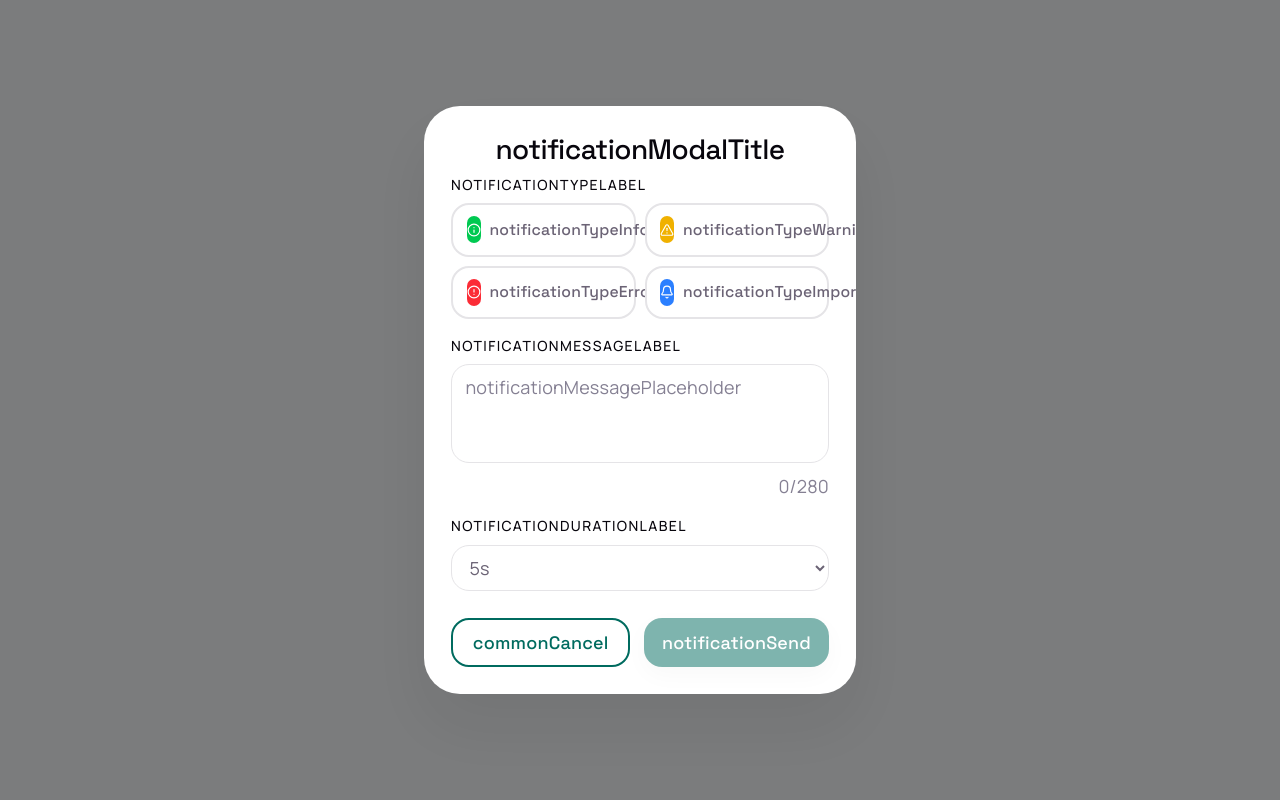
it: KioskNotificationModal › updates char counter as user types in textarea
This screenshot has width=1280, height=800.
Type "Hello kiosk!" into the text box at (640, 414), box [451,364,829,463]
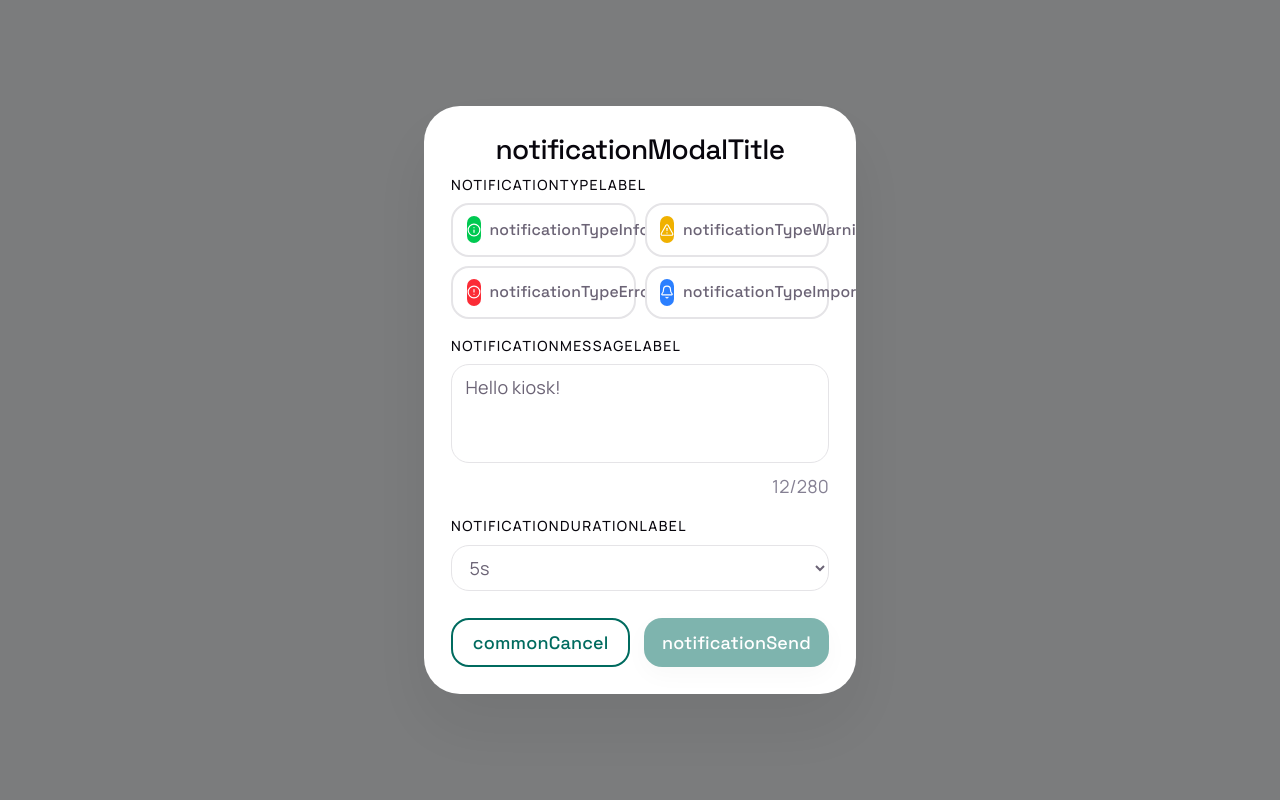
Now the text "12/280" is shown, box [772,474,829,498]
